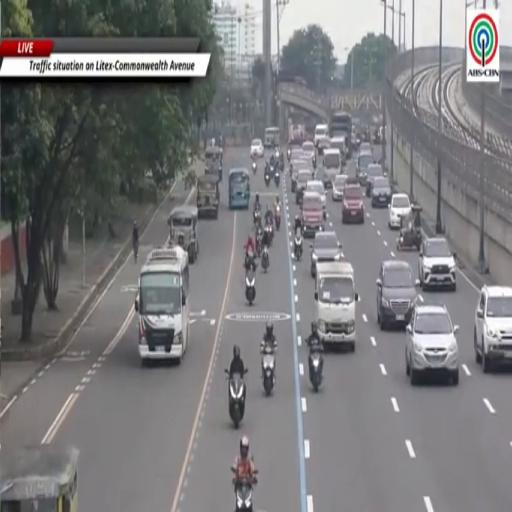bus: (135, 247, 190, 365), (329, 111, 352, 157), (229, 168, 250, 210)
car: (406, 304, 459, 386), (474, 286, 511, 373), (376, 260, 419, 330), (419, 237, 456, 291), (310, 231, 341, 277), (301, 192, 324, 237), (342, 185, 364, 223), (321, 149, 342, 188), (388, 194, 411, 229), (291, 158, 312, 193), (295, 168, 312, 205), (366, 164, 384, 197), (357, 151, 374, 185), (329, 136, 348, 166), (372, 178, 391, 207), (306, 181, 326, 207), (314, 124, 329, 154), (332, 174, 347, 201), (302, 141, 316, 162), (250, 139, 264, 158), (360, 142, 372, 153)
jeepney: (0, 444, 79, 511), (168, 205, 199, 263), (197, 175, 220, 218), (205, 147, 223, 181), (264, 126, 280, 148)
motorcycle: (225, 370, 247, 428), (236, 470, 257, 511), (261, 342, 275, 395), (309, 348, 323, 392), (246, 268, 255, 305), (244, 251, 257, 271), (294, 232, 302, 261), (261, 245, 269, 273), (265, 221, 273, 245), (256, 227, 262, 257), (275, 206, 281, 230), (254, 208, 260, 226), (264, 170, 270, 186), (279, 154, 284, 171), (274, 170, 279, 186), (134, 243, 138, 263), (252, 160, 257, 173), (312, 156, 317, 169), (274, 149, 279, 161), (287, 149, 291, 162)
truck: (315, 262, 358, 351)
